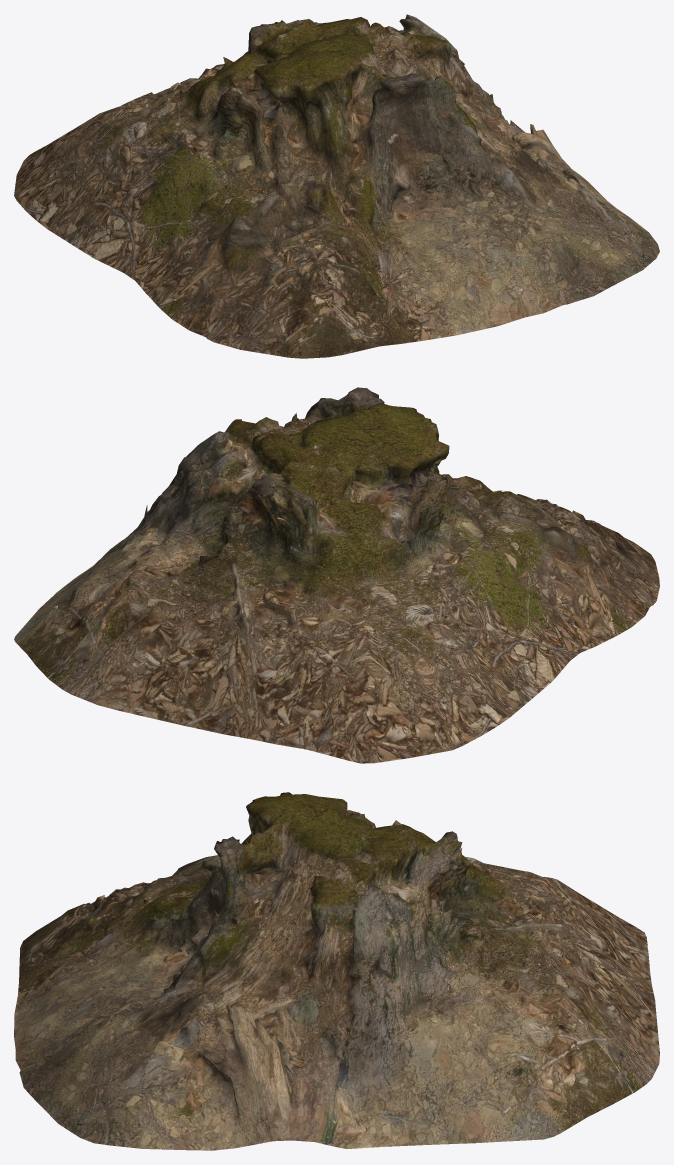
File: tree_stump_01.gltf
3 views of the same model, one above another, from view 1: azimuth 30°, elevation 25°; view 2: azimuth 150°, elevation 25°; view 3: azimuth 270°, elevation 25° (orthographic). The views are drawn at different scales.
Parts seen in each view (by area): view 1: tree_stump_01; view 2: tree_stump_01; view 3: tree_stump_01.
Boxes of the visible parts, left/top/right/bottom form: tree_stump_01: left=14, top=14, right=659, bottom=358; tree_stump_01: left=14, top=387, right=659, bottom=763; tree_stump_01: left=14, top=792, right=659, bottom=1150.
Bounding box in the file's own units: 1.43 × 0.5725 × 1.59.
1 material, 1 textured.
